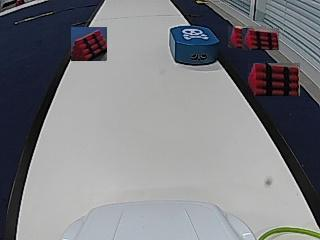danger: (183, 27, 208, 39)
